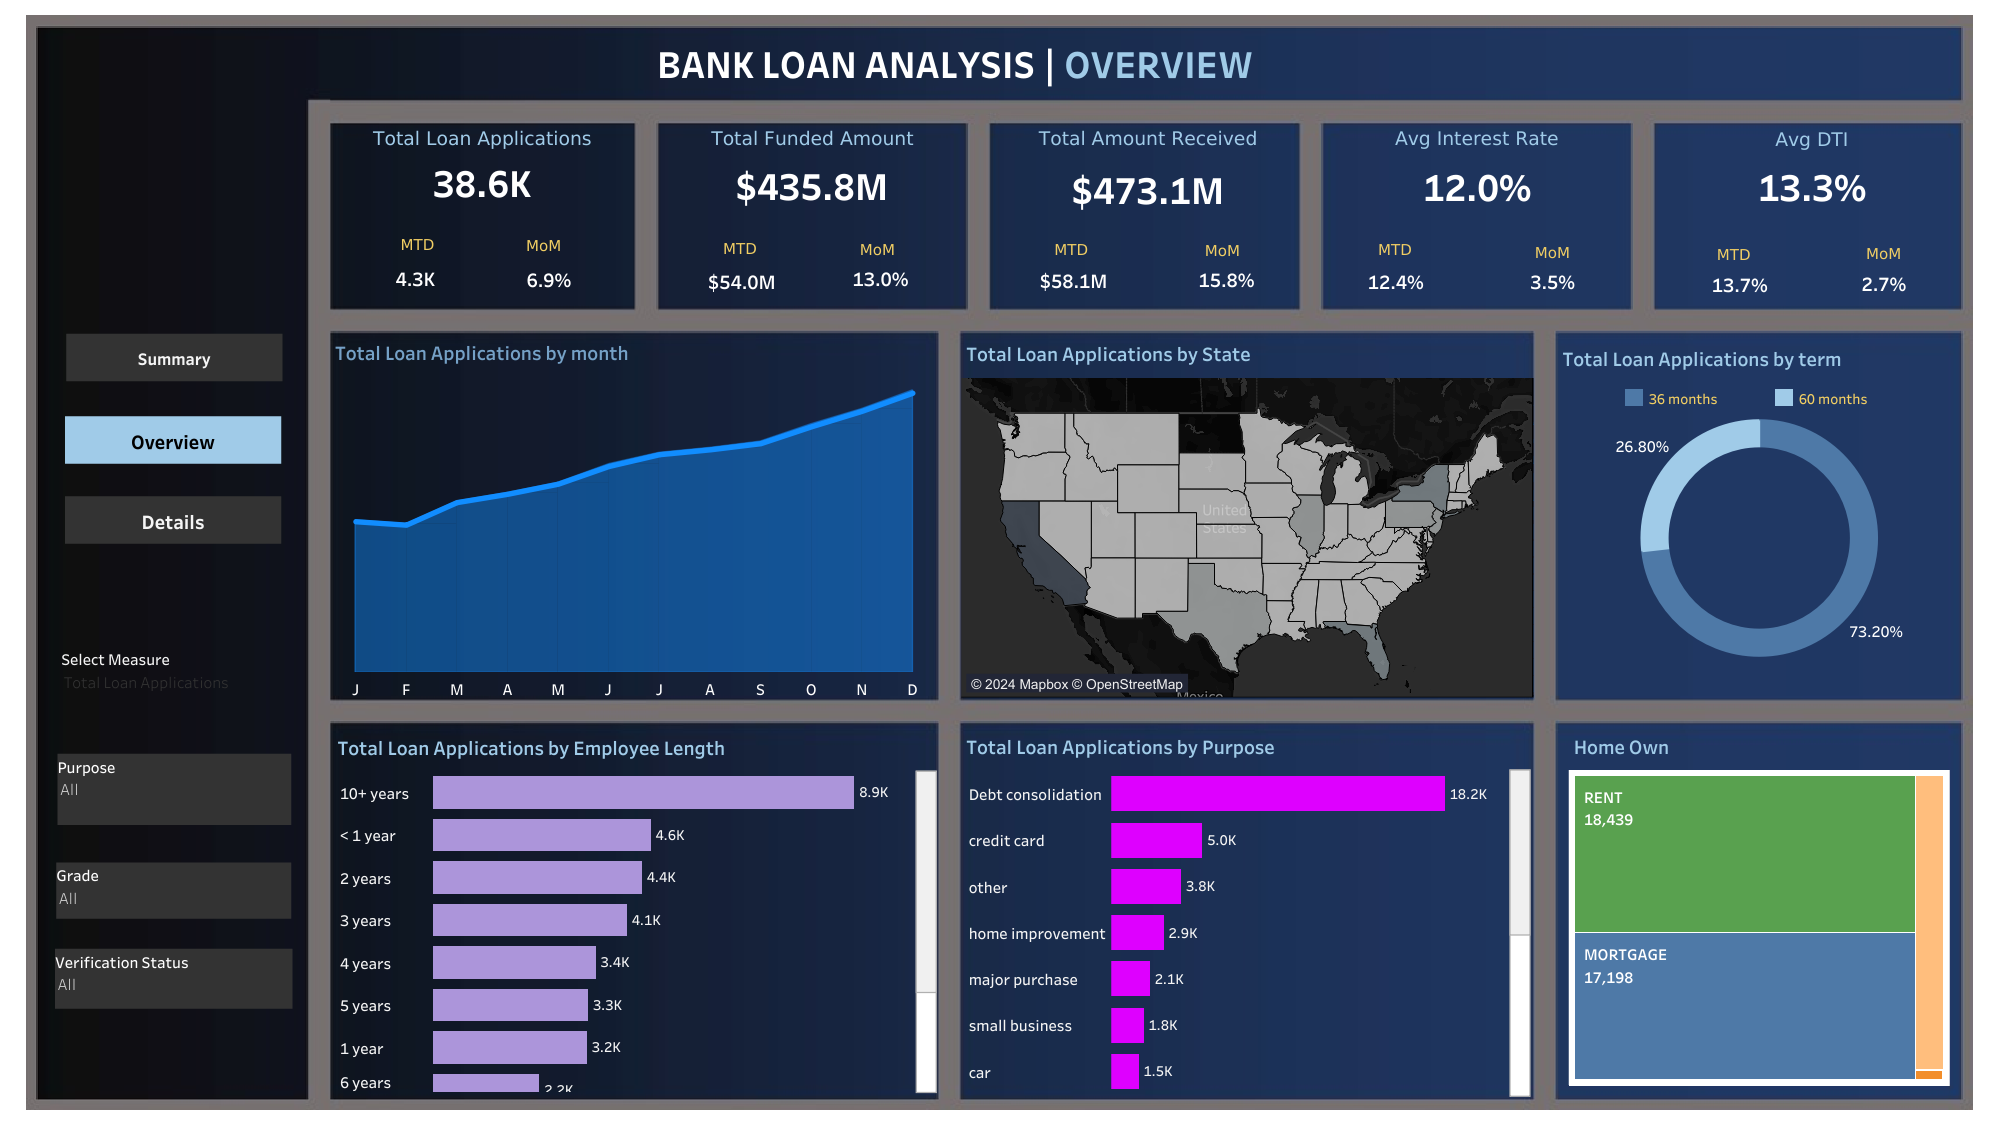

What the dashboard file says about the page in this screenshot:
{"tool":"tableau","page":{"name":"OVERVIEW","canvas":[1600,900],"ordinal":1},"visuals":[{"type":"image","param":"Image/Tableau Background 2.jpg","box":[8,8,1584,884]},{"type":"text","box":[523,15,623,70]},{"type":"worksheet","title":"Total Loan Applications","mark":"Automatic","box":[266,96,240,68]},{"type":"worksheet","title":"Total Funded Amount","mark":"Automatic","box":[526,96,248,71]},{"type":"worksheet","title":"Total Amount Received","mark":"Automatic","box":[795,96,247,77]},{"type":"worksheet","title":"Avg Interest Rate","mark":"Automatic","box":[1058,96,247,73]},{"type":"worksheet","title":"Avg DTI","mark":"Automatic","box":[1322,97,255,70]},{"type":"text","box":[284,180,100,30]},{"type":"text","box":[385,181,100,30]},{"type":"text","box":[542,183,100,30]},{"type":"text","box":[652,184,100,30]},{"type":"text","box":[807,184,100,30]},{"type":"text","box":[1066,184,100,30]},{"type":"text","box":[928,185,100,30]},{"type":"text","box":[1192,186,100,30]},{"type":"text","box":[1457,187,100,30]},{"type":"text","box":[1337,188,100,30]},{"type":"worksheet","title":"MTD Avg DTI","mark":"Automatic","box":[1330,198,125,58]},{"type":"worksheet","title":"MTD Total Funded Amount ","mark":"Automatic","box":[554,199,79,51]},{"type":"worksheet","title":"MoM Total Funded Amount","mark":"Automatic","box":[652,200,106,46]},{"type":"worksheet","title":"MTD Avg INT Rate","mark":"Automatic","box":[1067,202,100,46]},{"type":"worksheet","title":"MTD Total Loan Applications","mark":"Automatic","box":[266,205,134,36]},{"type":"worksheet","title":"MTD Total Amount Received","mark":"Automatic","box":[817,206,86,36]},{"type":"worksheet","title":"MoM Avg Int Rate","mark":"Automatic","box":[1191,207,103,36]},{"type":"worksheet","title":"MoM Avg DTI","mark":"Automatic","box":[1463,208,88,38]},{"type":"worksheet","title":"MoM Total Amount Received","mark":"Automatic","box":[937,209,89,30]},{"type":"worksheet","title":"MoM Loan Applications","mark":"Automatic","box":[399,214,81,18]},{"type":"worksheet","title":"Month","mark":"Area","rows":["Calculation_459085729218236416","Calculation_459085729218236416"],"cols":["issue_date"],"box":[264,265,486,295]},{"type":"worksheet","title":"State","mark":"Multipolygon","box":[769,266,457,291]},{"type":"dashboard-object","box":[53,267,173,38]},{"type":"worksheet","title":"Term","mark":"Pie","rows":["Calculation_589408644112449537","Calculation_589408644112449537"],"box":[1246,270,322,284]},{"type":"legend","title":"Term","param":"[federated.15s4aif1ggkyga19rxjmh1us535x].[none:term:nk]","box":[1297,308,247,26]},{"type":"dashboard-object","box":[52,333,173,38]},{"type":"dashboard-object","box":[52,397,173,38]},{"type":"parameter","param":"[Parameters].[Parameter 1]","box":[49,517,181,55]},{"type":"worksheet","title":"Purpose","mark":"Automatic","rows":["purpose"],"cols":["Calculation_459085729218236416"],"box":[769,580,456,297]},{"type":"worksheet","title":"Home Own","mark":"Automatic","box":[1255,580,304,293]},{"type":"worksheet","title":"Emp Length","mark":"Automatic","rows":["emp_length"],"cols":["Calculation_459085729218236416"],"box":[266,581,484,293]},{"type":"filter","title":"Avg DTI","param":"[federated.15s4aif1ggkyga19rxjmh1us535x].[none:purpose:nk]","box":[46,603,187,57]},{"type":"filter","title":"Avg DTI","param":"[federated.15s4aif1ggkyga19rxjmh1us535x].[none:grade:nk]","box":[45,690,188,45]},{"type":"filter","title":"Avg DTI","param":"[federated.15s4aif1ggkyga19rxjmh1us535x].[none:verification_status:nk]","box":[44,759,190,48]}]}

Visuals, with their boxes in screenshot pixels (x1, y1, x2, y2), scaled from the page's 1600x900 canvas onto the 1999x1124 screenshot:
image: <region>10, 10, 1989, 1114</region>
text: <region>653, 19, 1432, 106</region>
"Total Loan Applications" worksheet: <region>332, 120, 632, 205</region>
"Total Funded Amount" worksheet: <region>657, 120, 967, 209</region>
"Total Amount Received" worksheet: <region>993, 120, 1302, 216</region>
"Avg Interest Rate" worksheet: <region>1322, 120, 1630, 211</region>
"Avg DTI" worksheet: <region>1652, 121, 1970, 209</region>
text: <region>355, 225, 480, 262</region>
text: <region>481, 226, 606, 264</region>
text: <region>677, 229, 802, 266</region>
text: <region>815, 230, 940, 267</region>
text: <region>1008, 230, 1133, 267</region>
text: <region>1332, 230, 1457, 267</region>
text: <region>1159, 231, 1284, 269</region>
text: <region>1489, 232, 1614, 270</region>
text: <region>1820, 234, 1945, 271</region>
text: <region>1670, 235, 1795, 272</region>
"MTD Avg DTI" worksheet: <region>1662, 247, 1818, 320</region>
"MTD Total Funded Amount " worksheet: <region>692, 249, 791, 312</region>
"MoM Total Funded Amount" worksheet: <region>815, 250, 947, 307</region>
"MTD Avg INT Rate" worksheet: <region>1333, 252, 1458, 310</region>
"MTD Total Loan Applications" worksheet: <region>332, 256, 500, 301</region>
"MTD Total Amount Received" worksheet: <region>1021, 257, 1128, 302</region>
"MoM Avg Int Rate" worksheet: <region>1488, 259, 1617, 303</region>
"MoM Avg DTI" worksheet: <region>1828, 260, 1938, 307</region>
"MoM Total Amount Received" worksheet: <region>1171, 261, 1282, 298</region>
"MoM Loan Applications" worksheet: <region>499, 267, 600, 290</region>
"Month" worksheet (Area marks): <region>330, 331, 937, 699</region>
"State" worksheet (Multipolygon marks): <region>961, 332, 1532, 696</region>
dashboard-object: <region>66, 333, 282, 381</region>
"Term" worksheet (Pie marks): <region>1557, 337, 1959, 692</region>
"Term" legend: <region>1620, 385, 1929, 417</region>
dashboard-object: <region>65, 416, 281, 463</region>
dashboard-object: <region>65, 496, 281, 543</region>
parameter: <region>61, 646, 287, 714</region>
"Purpose" worksheet: <region>961, 724, 1530, 1095</region>
"Home Own" worksheet: <region>1568, 724, 1948, 1090</region>
"Emp Length" worksheet: <region>332, 726, 937, 1092</region>
"Avg DTI" filter: <region>57, 753, 291, 824</region>
"Avg DTI" filter: <region>56, 862, 291, 918</region>
"Avg DTI" filter: <region>55, 948, 292, 1008</region>
